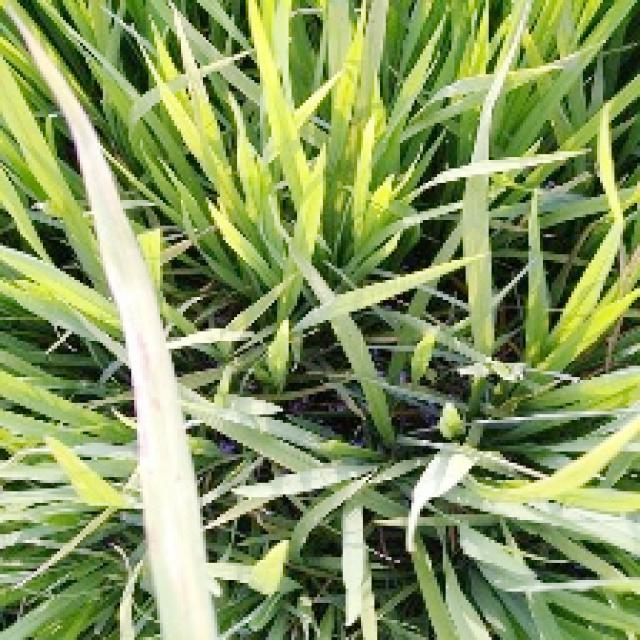health: (100, 0, 637, 314)
